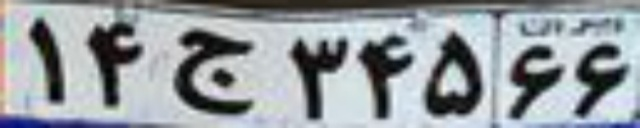1: (25, 16, 65, 104)
3: (285, 34, 349, 121)
4: (353, 34, 414, 119), (86, 20, 145, 107)
5: (425, 30, 480, 115)
6: (508, 43, 564, 118), (577, 41, 630, 118)
jim: (172, 28, 258, 117)
